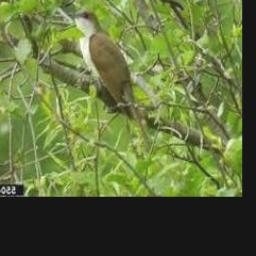Cuckoo: (72, 9, 150, 151)
